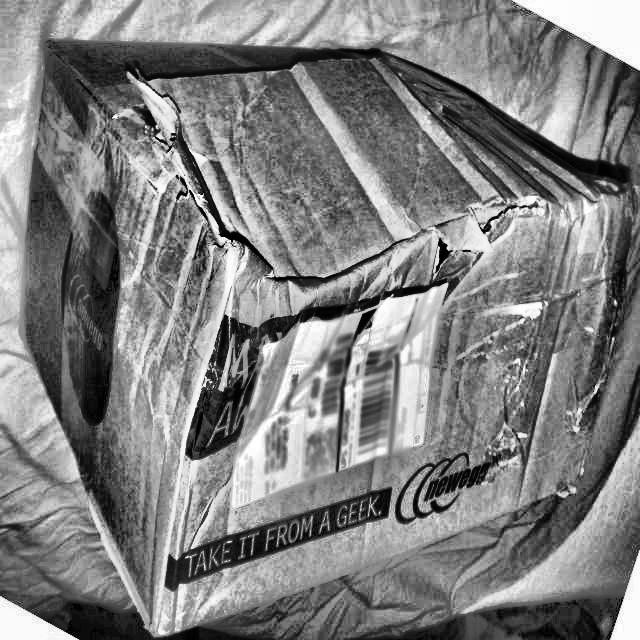box: (7, 29, 639, 639)
hole: (422, 230, 456, 272)
